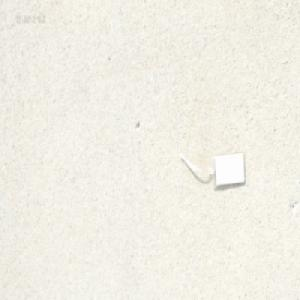LuggageTag: (175, 146, 245, 190)
